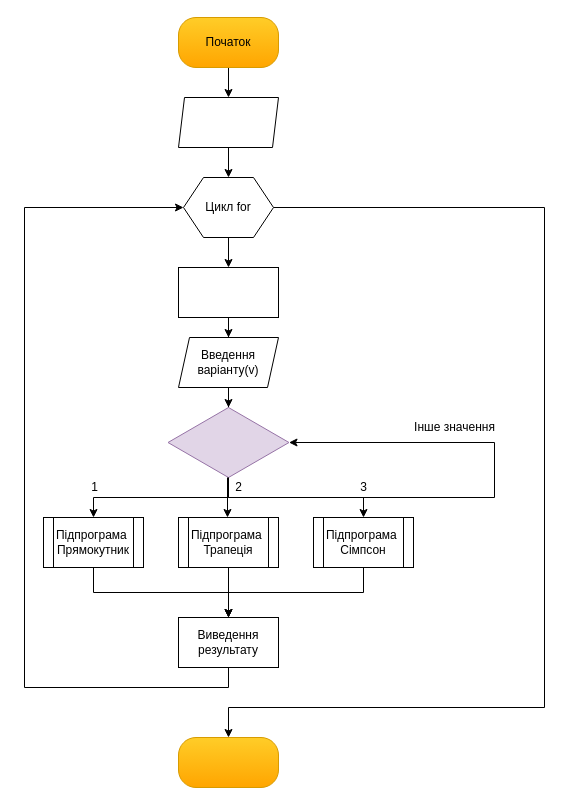
The diagram is 570 pixels wide and 805 high, and some of its shapes have lost their labels. The centre of each missing label's shape, as x and y in pixels:
"Виведення тексту на консоль" goes at pixel 228 292.
"Кінець" goes at pixel 228 762.
"Оголошення змін" goes at pixel 228 122.
"Чому дорівнює v?" goes at pixel 228 442.
